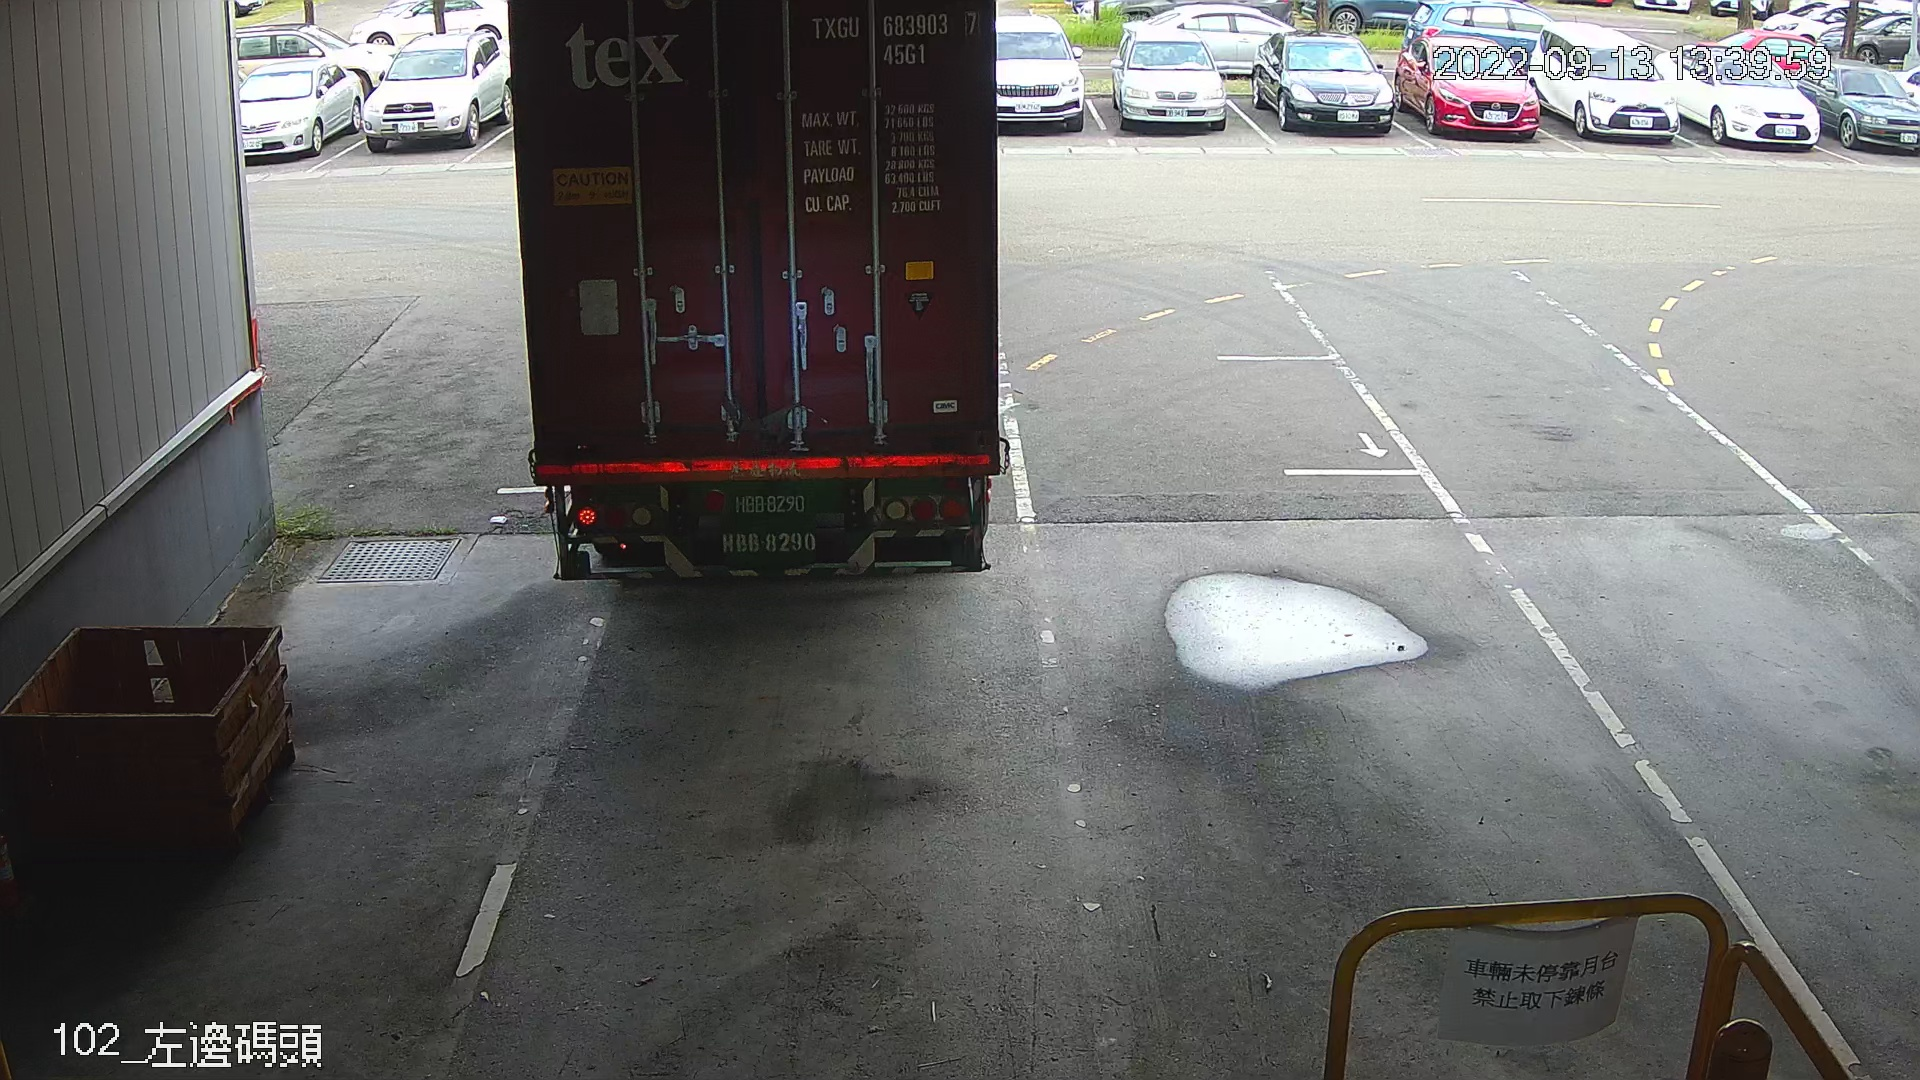container: (804, 5, 988, 73)
